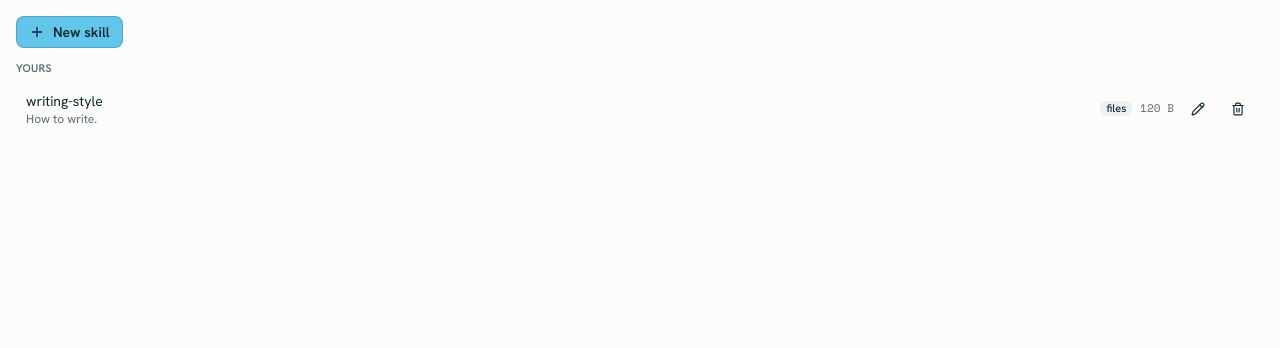
the files inside a skill › open in place, addressed by their path
The image size is (1280, 348).
Click the button "writing-style How to write." at {"x": 64, "y": 100}, box top-left (26, 90), bottom-right (1092, 126)
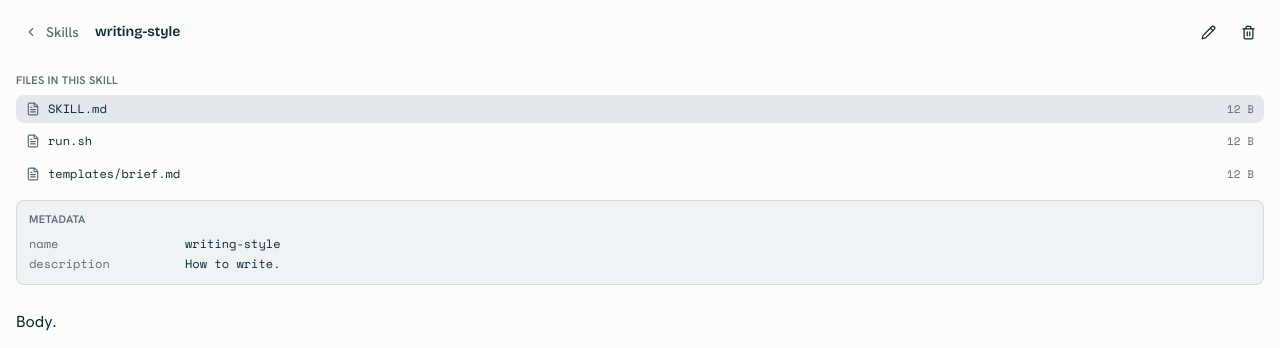
Click the button "templates/brief.md 12 B" at {"x": 114, "y": 173}, box top-left (16, 160), bottom-right (1264, 188)
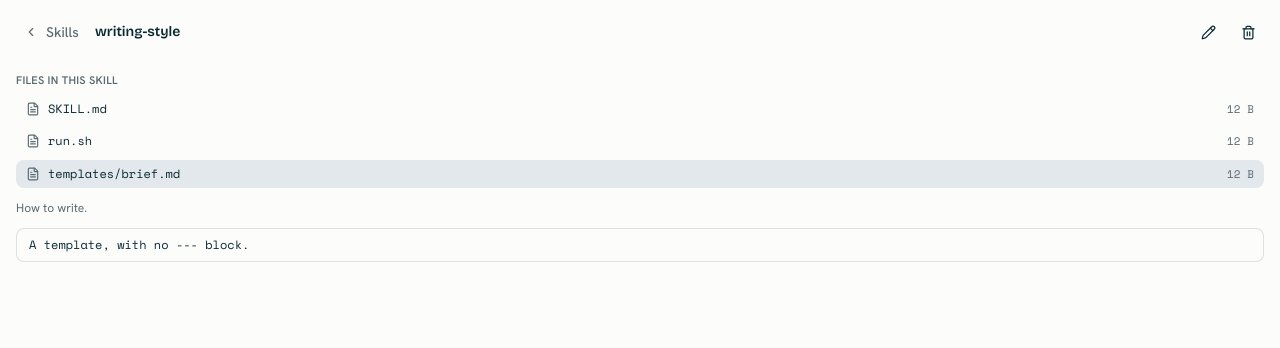
expect the text "A template, with no --- block." is shown: met, box top-left (16, 228), bottom-right (1264, 262)
